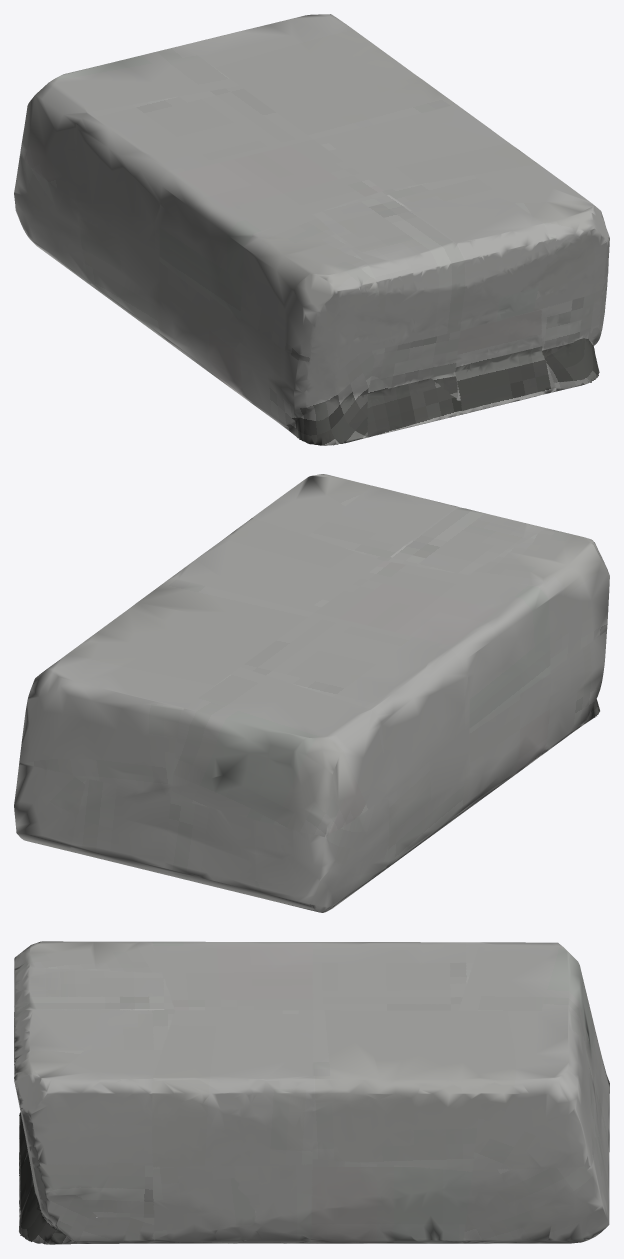
The model's file is s_eraser.glb.
The picture shows the model from 3 angles, top to bottom: view 1: azimuth 30°, elevation 25°; view 2: azimuth 150°, elevation 25°; view 3: azimuth 270°, elevation 25°; orthographic projection.
Parts seen in each view (by area): view 1: tripo_node_e3f044c0-032b-4ec3-b961-ca25be670d78; view 2: tripo_node_e3f044c0-032b-4ec3-b961-ca25be670d78; view 3: tripo_node_e3f044c0-032b-4ec3-b961-ca25be670d78.
Boxes of the visible parts, box(x1,y1,x2,y2) form: tripo_node_e3f044c0-032b-4ec3-b961-ca25be670d78: box(14, 14, 609, 445); tripo_node_e3f044c0-032b-4ec3-b961-ca25be670d78: box(14, 474, 609, 912); tripo_node_e3f044c0-032b-4ec3-b961-ca25be670d78: box(14, 941, 609, 1244).
Bounding box in the file's own units: 0.5928 × 0.3055 × 0.9991.
1 material, 1 textured.
